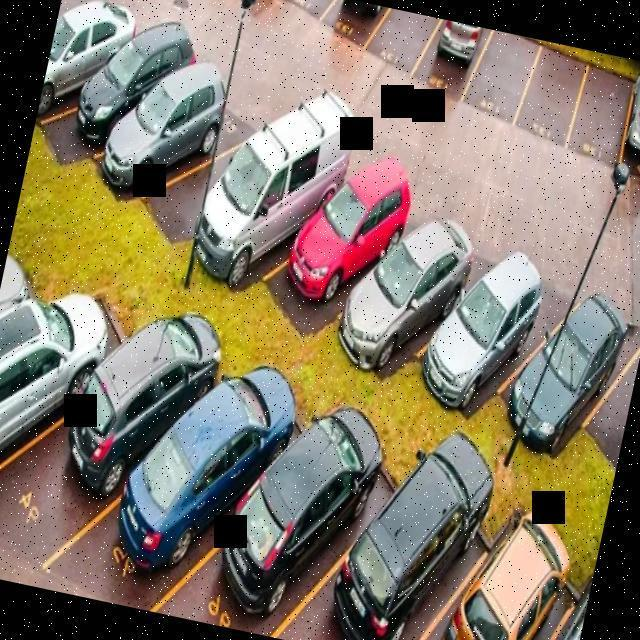car: (6, 272, 225, 590), (89, 326, 305, 632), (189, 377, 398, 640), (293, 420, 498, 640), (0, 266, 119, 552), (329, 176, 491, 382), (40, 0, 200, 204), (195, 94, 354, 299), (90, 45, 232, 232), (496, 261, 640, 439), (418, 237, 562, 408), (424, 495, 589, 640), (272, 161, 406, 338), (30, 0, 139, 160), (0, 228, 42, 487), (408, 15, 486, 109), (513, 555, 594, 640), (612, 61, 640, 207), (326, 0, 396, 55)
free: (154, 89, 286, 279), (578, 297, 640, 467), (556, 57, 639, 182), (456, 26, 544, 140), (518, 40, 592, 144), (360, 4, 446, 81), (283, 0, 346, 23)
